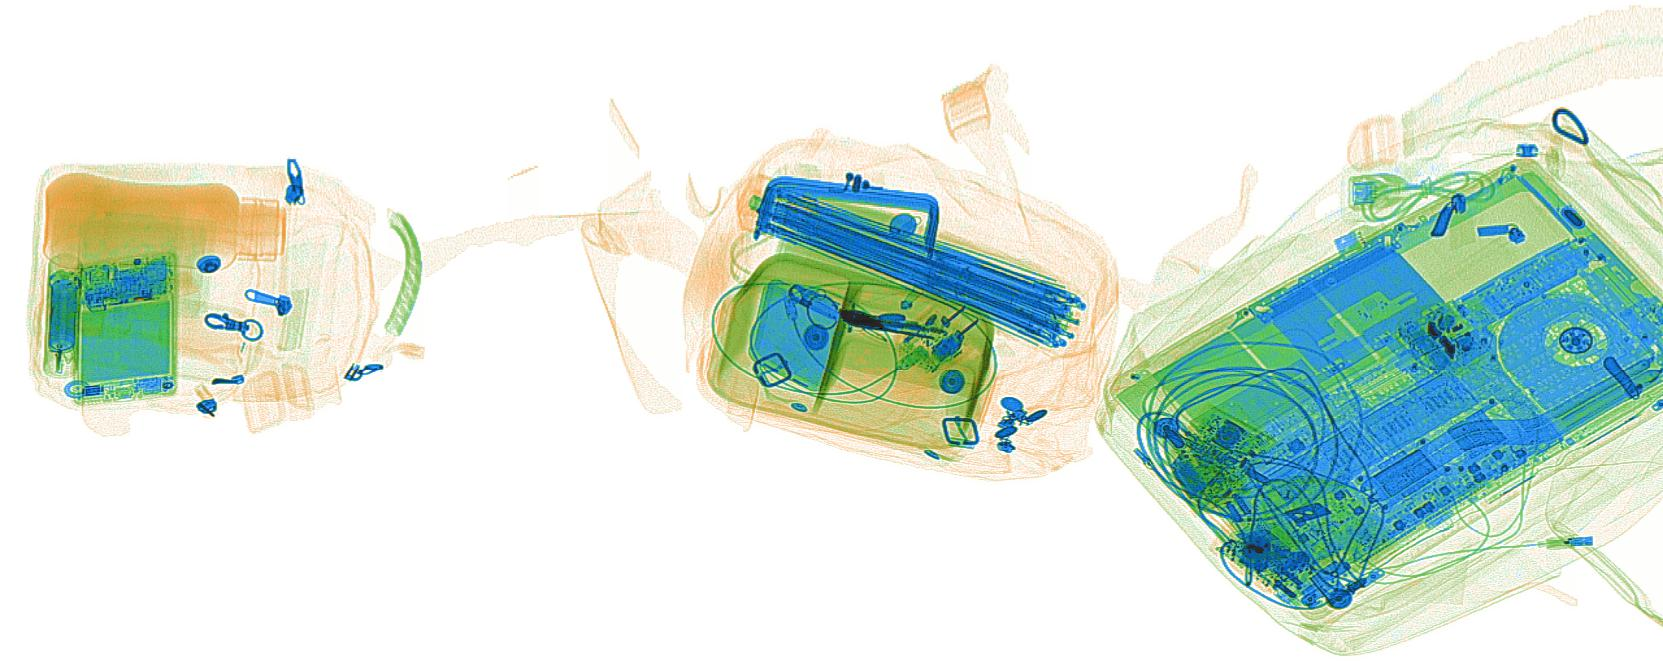battery: (46, 278, 77, 353)
